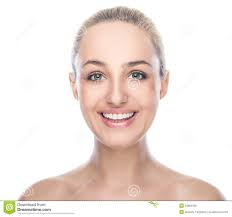white_female: (66, 29, 173, 166)
